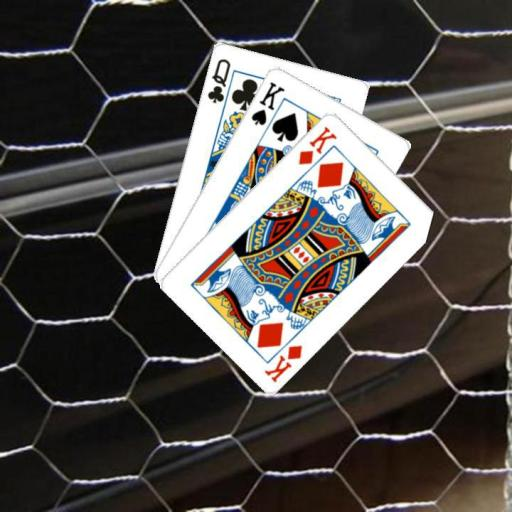KD: (295, 123, 339, 167), (261, 341, 304, 384)
KS: (247, 78, 286, 127)
QC: (204, 55, 232, 105)
